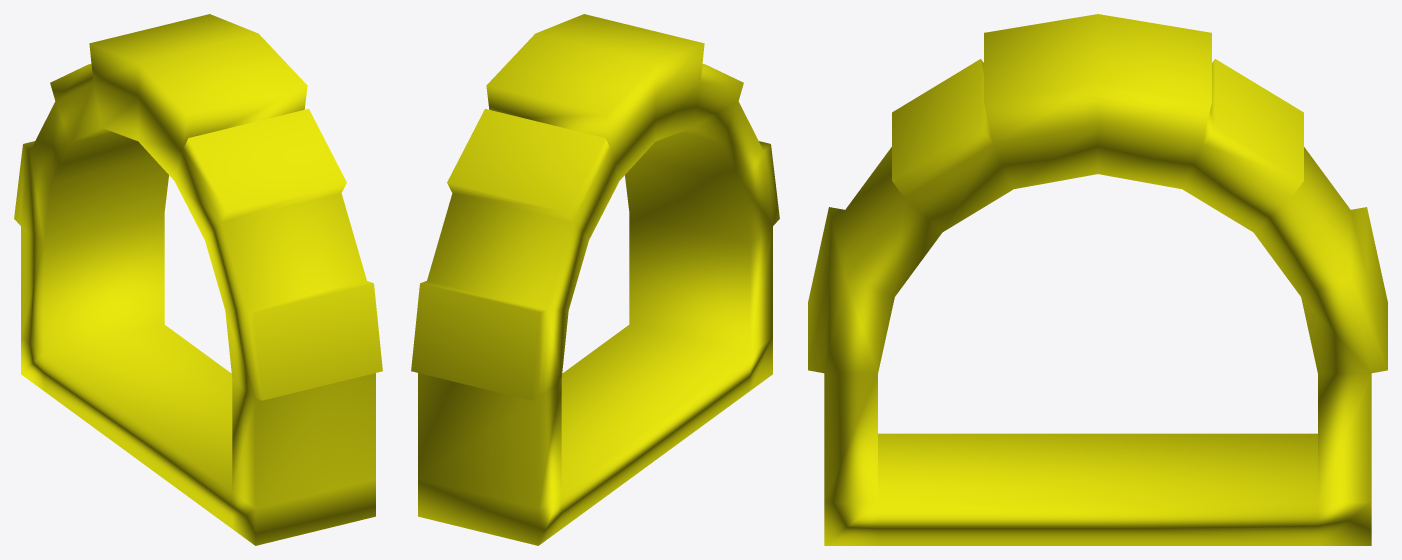
The model's file is Window_01_B.fbx.
The picture shows the model from 3 angles, left to right: view 1: azimuth 30°, elevation 25°; view 2: azimuth 150°, elevation 25°; view 3: azimuth 270°, elevation 25°; orthographic projection. The views are drawn at different scales.
Visible parts, largest first — view 1: Window_01_B; view 2: Window_01_B; view 3: Window_01_B.
Boxes of the visible parts, x1=… form: Window_01_B: x1=14, y1=14, x2=382, y2=545; Window_01_B: x1=411, y1=14, x2=779, y2=545; Window_01_B: x1=808, y1=14, x2=1387, y2=545.
Size of the model in its own units: 44.08 by 139 by 157.
